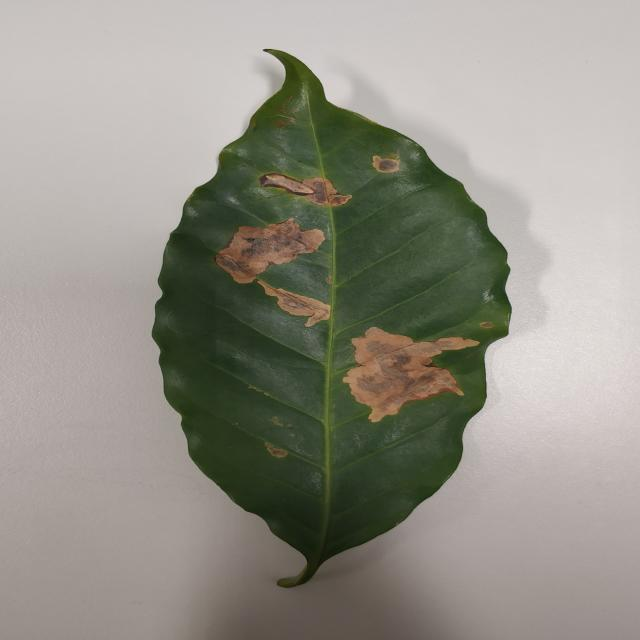Plaga-Minador: (151, 48, 513, 592)
